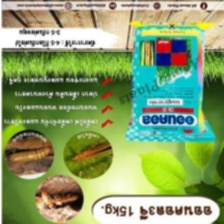insecticide: (123, 18, 218, 144)
